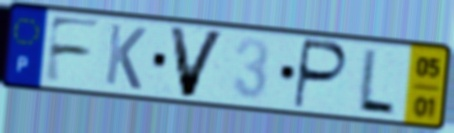3: (232, 35, 274, 103)
F: (41, 13, 105, 86)
K: (102, 21, 149, 93)
L: (354, 46, 398, 118)
P: (290, 36, 351, 112)
V: (166, 23, 229, 100)
